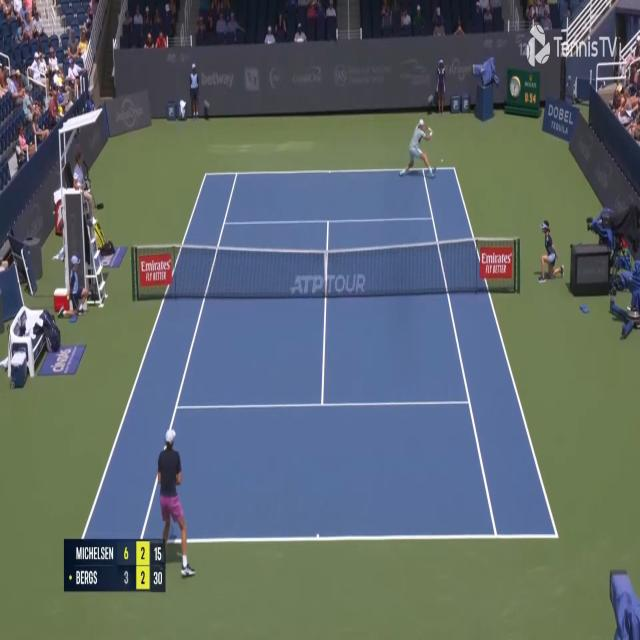tennis-player: (157, 425, 196, 582)
